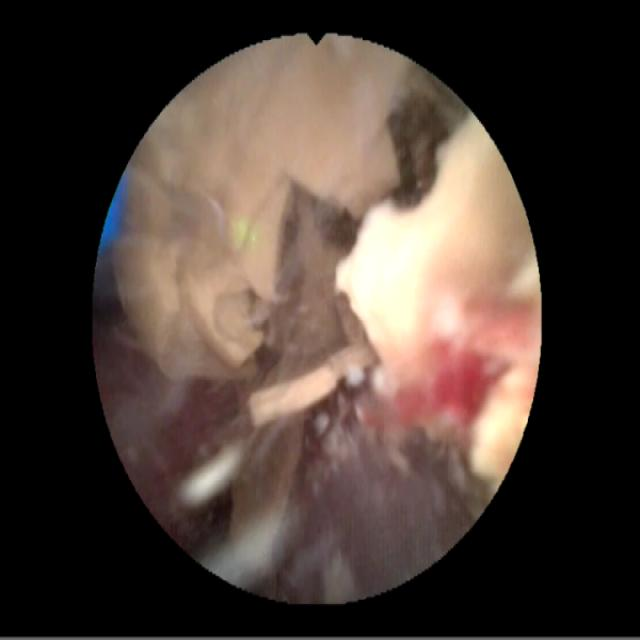fiber: (101, 176, 127, 251)
stone: (111, 42, 535, 582)
